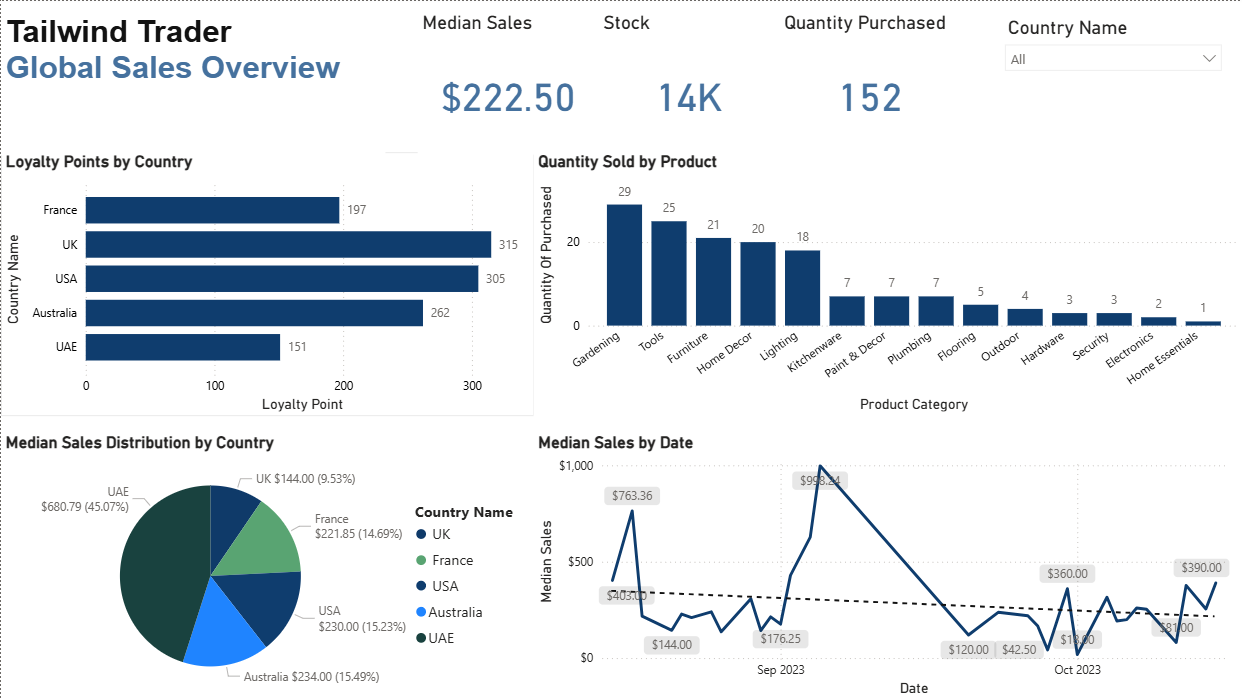

The dashboard page shown, as its layout file describes it:
{"tool":"powerbi","page":{"name":"Sales Overview","canvas":[1280,720],"ordinal":0},"visuals":[{"type":"clusteredBarChart","title":"Loyalty Points by Country","fields":{"Category":["Sales in USD.Country Name"],"Y":["Sum(Sales in USD. Loyalty Points)"]},"box":[0,155.6,548.2,271.9],"z":0},{"type":"clusteredColumnChart","title":"Quantity Sold by Product","fields":{"Y":["Sum(Sales in USD.Quantity Purchased)"],"Category":["Sales in USD.Product Category"]},"box":[548.2,155.6,731.4,271.9],"z":1000},{"type":"pieChart","title":"Median Sales Distribution by Country","fields":{"Category":["Sales in USD.Country Name"],"Y":["Sales in USD.Median Sales"]},"box":[0,445,548.2,274.8],"z":2000},{"type":"card","title":"Stock","fields":{"Values":["Sum(Sales in USD. Stock  )"]},"box":[615.1,11.6,186.1,146.9],"z":3000},{"type":"card","title":"Quantity Purchased","fields":{"Values":["Sum(Sales in USD.Quantity Purchased)"]},"box":[801.2,11.6,186.1,146.9],"z":4000},{"type":"card","title":"Median Sales","fields":{"Values":["Sales in USD.Median Sales"]},"box":[429,11.2,186.1,146.9],"z":5000},{"type":"slicer","fields":{"Values":["Sales in USD.Country Name"]},"box":[1023.7,11.2,242.8,146.9],"z":6000},{"type":"lineChart","fields":{"Category":["CalendarTable.Date"],"Y":["Sales in USD.Median Sales"]},"box":[548.2,445,731.4,274.8],"z":7000},{"type":"textbox","box":[0,8.9,395.5,149.8],"z":8000}]}

Visuals, with their boxes in screenshot pixels (x1, y1, x2, y2), scaled from the page's 1280x720 canvas onto the 1242x698 screenshot:
"Loyalty Points by Country" clusteredBarChart: [left=0, top=151, right=532, bottom=414]
"Quantity Sold by Product" clusteredColumnChart: [left=532, top=151, right=1241, bottom=414]
"Median Sales Distribution by Country" pieChart: [left=0, top=431, right=532, bottom=697]
"Stock" card: [left=597, top=11, right=777, bottom=154]
"Quantity Purchased" card: [left=777, top=11, right=958, bottom=154]
"Median Sales" card: [left=416, top=11, right=597, bottom=153]
slicer - Sales in USD.Country Name: [left=993, top=11, right=1229, bottom=153]
lineChart - CalendarTable.Date x Sales in USD.Median Sales: [left=532, top=431, right=1241, bottom=697]
textbox: [left=0, top=9, right=384, bottom=154]
